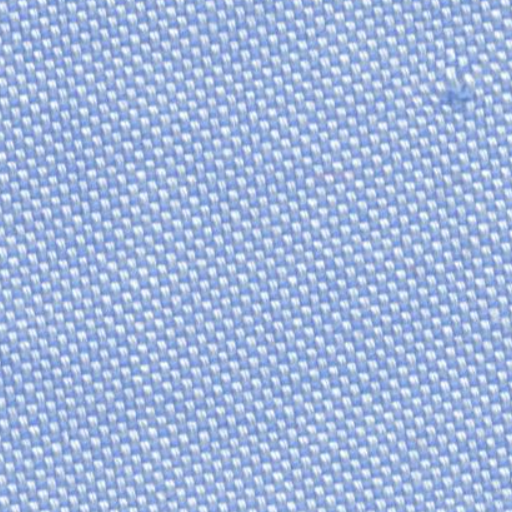PoDong: (420, 62, 489, 118)
